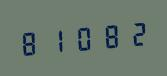eight: (18, 25, 43, 59), (96, 18, 121, 52)
one: (44, 23, 69, 57)
two: (122, 16, 147, 50)
zero: (70, 21, 95, 54)
